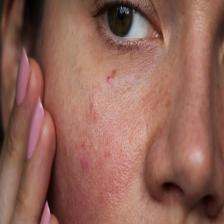Sensitif: (45, 0, 224, 224)
